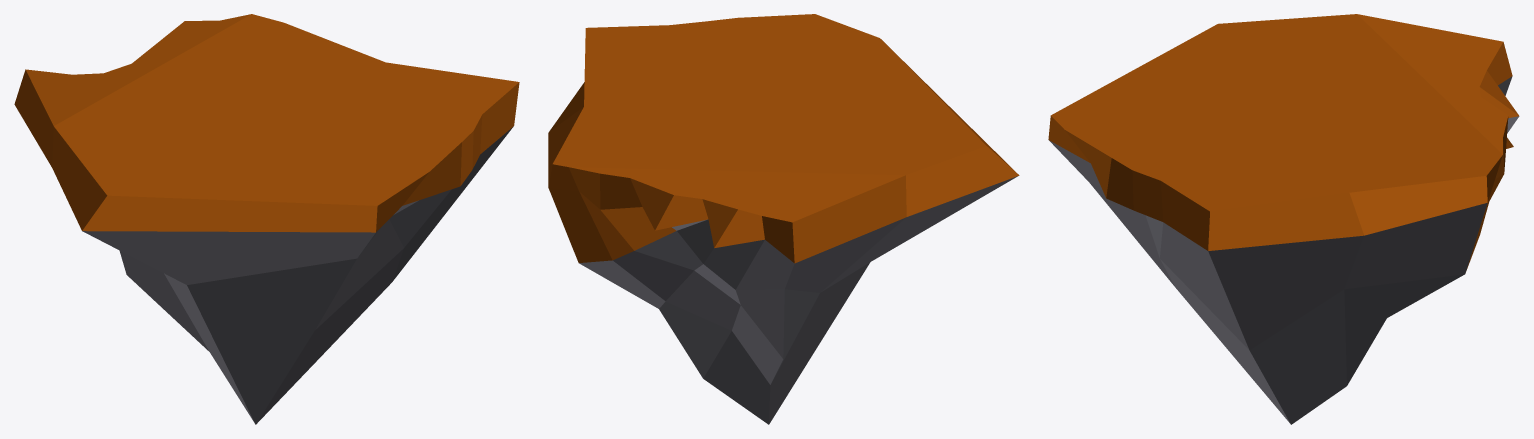
The model's file is biomenu 1.fbx.
3 views of the same model, side by side, from view 1: azimuth 30°, elevation 25°; view 2: azimuth 150°, elevation 25°; view 3: azimuth 270°, elevation 25° (orthographic). The views are drawn at different scales.
Visible parts, largest first — view 1: Cone; view 2: Cone; view 3: Cone.
Boxes of the visible parts, x1=… form: Cone: x1=14, y1=14, x2=519, y2=424; Cone: x1=548, y1=14, x2=1019, y2=424; Cone: x1=1048, y1=14, x2=1519, y2=424.
Size of the model in its own units: 204 by 142 by 185.
